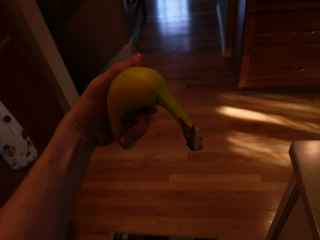banana: (103, 62, 207, 159)
